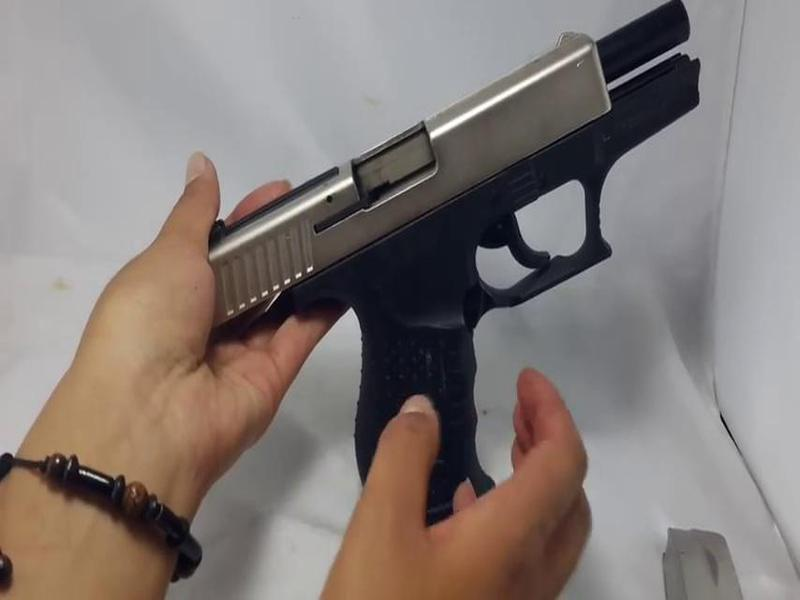Pistola: (184, 8, 705, 544)
